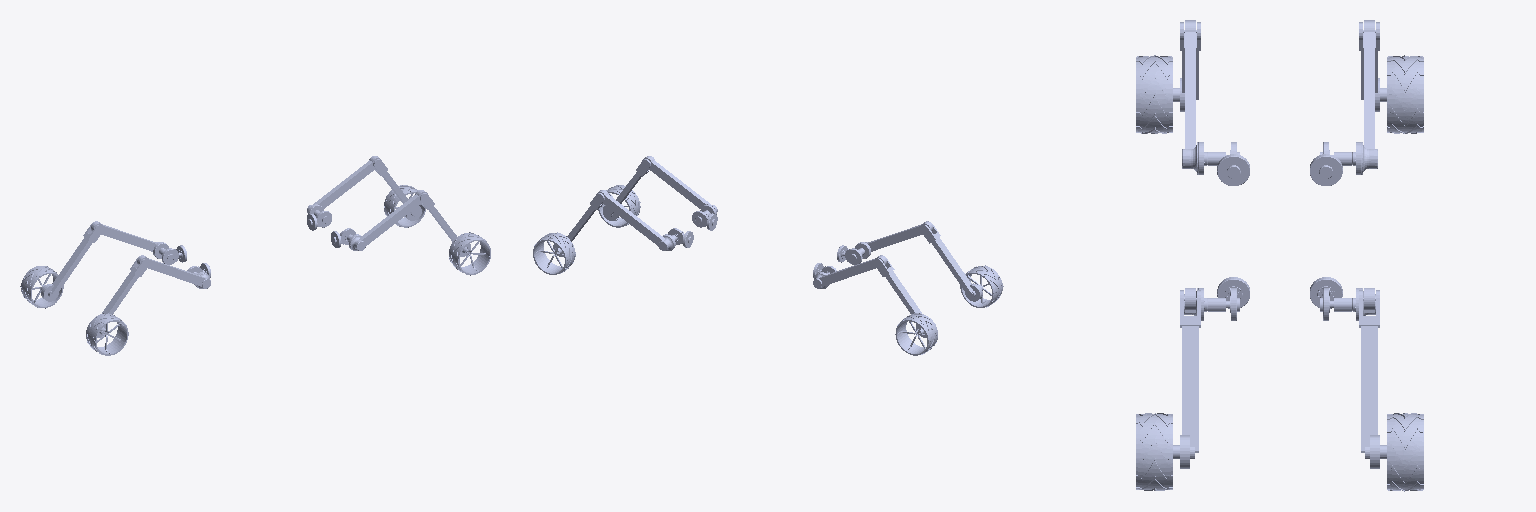
--- Facts derived from the render (not from the file) ---
Views: 3 orthographic renders of the robot side by side, from view 1: azimuth 30°, elevation 25°; view 2: azimuth 150°, elevation 25°; view 3: azimuth 270°, elevation 25°.
Robot: rover — 21 links, 20 joints (20 revolute); root link base_link; default pose: every joint at zero.
Links seen in each view (by area): view 1: back_right_wheel, front_right_wheel, Empty_Link44, l1, Empty_Link3, back_left_wheel, Empty_Link333, Empty_Link33, Empty_Link444, front_left_wheel, Empty_Link4; view 2: front_left_wheel, back_left_wheel, Empty_Link444, Empty_Link3, l1, back_right_wheel, Empty_Link33, Empty_Link333, Empty_Link44, front_right_wheel, l2; view 3: back_right_wheel, front_left_wheel, back_left_wheel, front_right_wheel, l2, Empty_Link4, Empty_Link33, Empty_Link333, Empty_Link111, Empty_Link11, Empty_Link44, Empty_Link444 (+4 smaller).
Boxes of the visible links, bbox=[...] form: back_right_wheel: bbox=[86, 313, 128, 355]; front_right_wheel: bbox=[449, 232, 490, 275]; Empty_Link44: bbox=[41, 221, 103, 301]; l1: bbox=[349, 190, 427, 250]; Empty_Link3: bbox=[307, 156, 381, 213]; back_left_wheel: bbox=[20, 266, 63, 308]; Empty_Link333: bbox=[137, 255, 210, 288]; Empty_Link33: bbox=[91, 221, 168, 258]; Empty_Link444: bbox=[97, 255, 149, 337]; front_left_wheel: bbox=[384, 185, 425, 227]; Empty_Link4: bbox=[369, 156, 421, 220]; front_left_wheel: bbox=[533, 232, 575, 274]; back_left_wheel: bbox=[895, 313, 937, 355]; Empty_Link444: bbox=[920, 221, 982, 301]; Empty_Link3: bbox=[596, 190, 675, 250]; l1: bbox=[642, 156, 717, 214]; back_right_wheel: bbox=[960, 265, 1003, 307]; Empty_Link33: bbox=[813, 255, 886, 288]; Empty_Link333: bbox=[855, 221, 932, 258]; Empty_Link44: bbox=[874, 255, 926, 337]; front_right_wheel: bbox=[598, 185, 640, 227]; l2: bbox=[603, 156, 654, 220]; back_right_wheel: bbox=[1136, 55, 1179, 133]; front_left_wheel: bbox=[1380, 413, 1423, 491]; back_left_wheel: bbox=[1380, 55, 1423, 133]; front_right_wheel: bbox=[1136, 413, 1179, 490]; l2: bbox=[1180, 290, 1200, 468]; Empty_Link4: bbox=[1359, 290, 1379, 468]; Empty_Link33: bbox=[1352, 20, 1377, 174]; Empty_Link333: bbox=[1182, 20, 1207, 174]; Empty_Link111: bbox=[1217, 152, 1249, 185]; Empty_Link11: bbox=[1310, 152, 1342, 185]; Empty_Link44: bbox=[1359, 22, 1379, 111]; Empty_Link444: bbox=[1180, 22, 1200, 111].
Bounding box of the posed robot: 4.8 × 1.56 × 0.996 m (x, y, z).
Meshes: 21 distinct files referenced, 20 mesh visuals loaded (20 binary STL); not drawn: 1 (reference not matched to a file when rendering).

URDF robot description (rover):
<?xml version="1.0" encoding="utf-8"?>
<!-- This URDF was automatically created by SolidWorks to URDF Exporter! Originally created by Stephen Brawner ([email redacted]) 
     Commit Version: 1.6.0-4-g7f85cfe  Build Version: 1.6.7995.38578
     For more information, please see http://wiki.ros.org/sw_urdf_exporter -->
<robot name="rover">
  <link
    name="base_link">
    <inertial>
      <origin
        xyz="0.62089 0.44892 0.51631"
        rpy="0 0 0" />
      <mass
        value="386.24" />
      <inertia
        ixx="27.335"
        ixy="-0.00037164"
        ixz="5.2199E-06"
        iyy="42.415"
        iyz="-3.4132E-06"
        izz="38.071" />
    </inertial>
    <visual>
      <origin
        xyz="0 0 0"
        rpy="0 0 0" />
      <geometry>
        <mesh
          filename="package://euro2moon/meshes/o2_rover/base_link.STL" />
      </geometry>
      <material
        name="">
        <color
          rgba="0.79216 0.81961 0.93333 1" />
      </material>
    </visual>
    <collision>
      <origin
        xyz="0 0 0"
        rpy="0 0 0" />
      <geometry>
        <mesh
          filename="package://euro2moon/meshes/o2_rover/base_link.STL" />
      </geometry>
    </collision>
  </link>
  <link
    name="hp1">
    <inertial>
      <origin
        xyz="-0.034403 -3.6769E-06 -1.1834E-05"
        rpy="0 0 0" />
      <mass
        value="1.1716" />
      <inertia
        ixx="0.0036526"
        ixy="-4.6094E-08"
        ixz="-4.1157E-08"
        iyy="0.0019004"
        iyz="-6.4861E-08"
        izz="0.00193" />
    </inertial>
    <visual>
      <origin
        xyz="0 0 0"
        rpy="0 0 0" />
      <geometry>
        <mesh
          filename="package://euro2moon/meshes/o2_rover/hp1.STL" />
      </geometry>
      <material
        name="">
        <color
          rgba="0.79216 0.81961 0.93333 1" />
      </material>
    </visual>
    <collision>
      <origin
        xyz="0 0 0"
        rpy="0 0 0" />
      <geometry>
        <mesh
          filename="package://euro2moon/meshes/o2_rover/hp1.STL" />
      </geometry>
    </collision>
  </link>
  <joint
    name="hp1_joint"
    type="revolute">
    <origin
      xyz="1.3591 -0.80231 0.14111"
      rpy="1.7515 0 3.1416" />
    <parent
      link="base_link" />
    <child
      link="hp1" />
    <axis
      xyz="1 0 0" />
    <limit
      lower="0"
      upper="0"
      effort="0"
      velocity="0" />
  </joint>
  <link
    name="hp2">
    <inertial>
      <origin
        xyz="-5.5787E-06 -7.1706E-06 -0.025705"
        rpy="0 0 0" />
      <mass
        value="1.5981" />
      <inertia
        ixx="0.0024298"
        ixy="1.3894E-07"
        ixz="-5.7636E-08"
        iyy="0.0024303"
        iyz="-2.2285E-08"
        izz="0.0039377" />
    </inertial>
    <visual>
      <origin
        xyz="0 0 0"
        rpy="0 0 0" />
      <geometry>
        <mesh
          filename="package://euro2moon/meshes/o2_rover/hp2.STL" />
      </geometry>
      <material
        name="">
        <color
          rgba="0.79216 0.81961 0.93333 1" />
      </material>
    </visual>
    <collision>
      <origin
        xyz="0 0 0"
        rpy="0 0 0" />
      <geometry>
        <mesh
          filename="package://euro2moon/meshes/o2_rover/hp2.STL" />
      </geometry>
    </collision>
  </link>
  <joint
    name="hp2_joint"
    type="revolute">
    <origin
      xyz="-0.18 0 0"
      rpy="0 0 -0.19587" />
    <parent
      link="hp1" />
    <child
      link="hp2" />
    <axis
      xyz="0 0 1" />
    <limit
      lower="0"
      upper="0"
      effort="0"
      velocity="0" />
  </joint>
  <link
    name="l1">
    <inertial>
      <origin
        xyz="-0.143460039116074 0.00618443913298916 -0.196061616607061"
        rpy="0 0 0" />
      <mass
        value="1.8460858425331" />
      <inertia
        ixx="0.00367604155682221"
        ixy="0.00302631667779146"
        ixz="-0.000493203508694683"
        iyy="0.0324585449685641"
        iyz="5.12731951424787E-05"
        izz="0.0350030193246323" />
    </inertial>
    <visual>
      <origin
        xyz="0 0 0"
        rpy="0 0 0" />
      <geometry>
        <mesh
          filename="package://euro2moon/meshes/o2_rover/l1.STL" />
      </geometry>
      <material
        name="">
        <color
          rgba="0.792156862745098 0.819607843137255 0.933333333333333 1" />
      </material>
    </visual>
    <collision>
      <origin
        xyz="0 0 0"
        rpy="0 0 0" />
      <geometry>
        <mesh
          filename="package://euro2moon/meshes/o2_rover/l1.STL" />
      </geometry>
    </collision>
  </link>
  <joint
    name="l1_joint"
    type="revolute">
    <origin
      xyz="0 0.01 0"
      rpy="0 0 -0.41549" />
    <parent
      link="hp2" />
    <child
      link="l1" />
    <axis
      xyz="0 0 1" />
    <limit
      lower="0"
      upper="0"
      effort="0"
      velocity="0" />
  </joint>
  <link
    name="l2">
    <inertial>
      <origin
        xyz="-0.224425395675397 -0.362982100091572 -0.224891371536117"
        rpy="0 0 0" />
      <mass
        value="2.59292917008644" />
      <inertia
        ixx="0.0317371370279035"
        ixy="-0.0166192273397199"
        ixz="-0.000201796782306306"
        iyy="0.0151270624169168"
        iyz="-0.000326375225598276"
        izz="0.0408236813242111" />
    </inertial>
    <visual>
      <origin
        xyz="0 0 0"
        rpy="0 0 0" />
      <geometry>
        <mesh
          filename="package://euro2moon/meshes/o2_rover/l2.STL" />
      </geometry>
      <material
        name="">
        <color
          rgba="0.792156862745098 0.819607843137255 0.933333333333333 1" />
      </material>
    </visual>
    <collision>
      <origin
        xyz="0 0 0"
        rpy="0 0 0" />
      <geometry>
        <mesh
          filename="package://euro2moon/meshes/o2_rover/l2.STL" />
      </geometry>
    </collision>
  </link>
  <joint
    name="l2_joint"
    type="revolute">
    <origin
      xyz="-0.83901 0.078528 -0.010556"
      rpy="0 0 0.4081" />
    <parent
      link="l1" />
    <child
      link="l2" />
    <axis
      xyz="0 0 1" />
    <limit
      lower="0"
      upper="0"
      effort="0"
      velocity="0" />
  </joint>
  <link
    name="front_right_wheel">
    <inertial>
      <origin
        xyz="1.0610538772049E-06 7.04615102709027E-07 -0.248600822987221"
        rpy="0 0 0" />
      <mass
        value="4.63076433053832" />
      <inertia
        ixx="0.0898447630459799"
        ixy="3.09101650164943E-07"
        ixz="3.79031080625057E-07"
        iyy="0.0898412222901449"
        iyz="2.11570354497967E-07"
        izz="0.153085392538483" />
    </inertial>
    <visual>
      <origin
        xyz="0 0 0"
        rpy="0 0 0" />
      <geometry>
        <mesh
          filename="package://euro2moon/meshes/o2_rover/w.STL" />
      </geometry>
      <material
        name="">
        <color
          rgba="0.792156862745098 0.819607843137255 0.933333333333333 1" />
      </material>
    </visual>
    <collision>
      <origin
        xyz="0 0 0"
        rpy="0 0 0" />
      <geometry>
        <mesh
          filename="package://euro2moon/meshes/o2_rover/w.STL" />
      </geometry>
    </collision>
  </link>
  <joint
    name="front_right_wheel_joint"
    type="revolute">
    <origin
      xyz="-0.44017 -0.71191 -0.15933"
      rpy="0 0 -0.91531" />
    <parent
      link="l2" />
    <child
      link="front_right_wheel" />
    <axis
      xyz="0 0 1" />
    <limit
      lower="0"
      upper="0"
      effort="0"
      velocity="0" />
  </joint>
  <link
    name="Empty_Link1">
    <inertial>
      <origin
        xyz="-0.0344026182701038 -3.67692664290931E-06 -1.18344696493633E-05"
        rpy="0 0 0" />
      <mass
        value="1.17155430952358" />
      <inertia
        ixx="0.00365259334652187"
        ixy="-4.60935664192442E-08"
        ixz="-4.11568614865394E-08"
        iyy="0.00190043393679301"
        iyz="-6.48612853096143E-08"
        izz="0.00193002277419805" />
    </inertial>
    <visual>
      <origin
        xyz="0 0 0"
        rpy="0 0 0" />
      <geometry>
        <mesh
          filename="package://euro2moon/meshes/o2_rover/Empty_Link1.STL" />
      </geometry>
      <material
        name="">
        <color
          rgba="0.792156862745098 0.819607843137255 0.933333333333333 1" />
      </material>
    </visual>
    <collision>
      <origin
        xyz="0 0 0"
        rpy="0 0 0" />
      <geometry>
        <mesh
          filename="package://euro2moon/meshes/o2_rover/Empty_Link1.STL" />
      </geometry>
    </collision>
  </link>
  <joint
    name="1_joint"
    type="revolute">
    <origin
      xyz="1.3591 -0.30231 0.14111"
      rpy="1.5456 0 3.1416" />
    <parent
      link="base_link" />
    <child
      link="Empty_Link1" />
    <axis
      xyz="1 0 0" />
    <limit
      lower="0"
      upper="0"
      effort="0"
      velocity="0" />
  </joint>
  <link
    name="Empty_Link2">
    <inertial>
      <origin
        xyz="-5.57869856465665E-06 -7.17060544241921E-06 -0.0258851829655141"
        rpy="0 0 0" />
      <mass
        value="1.59805272520045" />
      <inertia
        ixx="0.00242979464688006"
        ixy="1.38944924919397E-07"
        ixz="-5.76359378413726E-08"
        iyy="0.00243030832625978"
        iyz="-2.2284579042515E-08"
        izz="0.00393765439298418" />
    </inertial>
    <visual>
      <origin
        xyz="0 0 0"
        rpy="0 0 0" />
      <geometry>
        <mesh
          filename="package://euro2moon/meshes/o2_rover/Empty_Link2.STL" />
      </geometry>
      <material
        name="">
        <color
          rgba="0.792156862745098 0.819607843137255 0.933333333333333 1" />
      </material>
    </visual>
    <collision>
      <origin
        xyz="0 0 0"
        rpy="0 0 0" />
      <geometry>
        <mesh
          filename="package://euro2moon/meshes/o2_rover/Empty_Link2.STL" />
      </geometry>
    </collision>
  </link>
  <joint
    name="2_joint"
    type="revolute">
    <origin
      xyz="-0.18 0 0"
      rpy="3.1416 0 3.1416" />
    <parent
      link="Empty_Link1" />
    <child
      link="Empty_Link2" />
    <axis
      xyz="0 0 1" />
    <limit
      lower="0"
      upper="0"
      effort="0"
      velocity="0" />
  </joint>
  <link
    name="Empty_Link3">
    <inertial>
      <origin
        xyz="-0.147496410193388 0.0153336391181572 -0.0543084300021963"
        rpy="0 0 0" />
      <mass
        value="1.84608580473951" />
      <inertia
        ixx="0.00367603577978081"
        ixy="0.00302631299474486"
        ixz="-0.000493202766983148"
        iyy="0.0324585477994497"
        iyz="5.12729336314081E-05"
        izz="0.0350030255525664" />
    </inertial>
    <visual>
      <origin
        xyz="0 0 0"
        rpy="0 0 0" />
      <geometry>
        <mesh
          filename="package://euro2moon/meshes/o2_rover/Empty_Link3.STL" />
      </geometry>
      <material
        name="">
        <color
          rgba="0.792156862745098 0.819607843137255 0.933333333333333 1" />
      </material>
    </visual>
    <collision>
      <origin
        xyz="0 0 0"
        rpy="0 0 0" />
      <geometry>
        <mesh
          filename="package://euro2moon/meshes/o2_rover/Empty_Link3.STL" />
      </geometry>
    </collision>
  </link>
  <joint
    name="3_joint"
    type="revolute">
    <origin
      xyz="0 0 -0.14193"
      rpy="0 0 -2.5655" />
    <parent
      link="Empty_Link2" />
    <child
      link="Empty_Link3" />
    <axis
      xyz="0 0 1" />
    <limit
      lower="0"
      upper="0"
      effort="0"
      velocity="0" />
  </joint>
  <link
    name="Empty_Link4">
    <inertial>
      <origin
        xyz="-0.22443 -0.36298 -0.056215"
        rpy="0 0 0" />
      <mass
        value="2.5929" />
      <inertia
        ixx="0.031737"
        ixy="-0.016619"
        ixz="-0.0002018"
        iyy="0.015127"
        iyz="-0.00032638"
        izz="0.040824" />
    </inertial>
    <visual>
      <origin
        xyz="0 0 0"
        rpy="0 0 0" />
      <geometry>
        <mesh
          filename="package://euro2moon/meshes/o2_rover/Empty_Link4.STL" />
      </geometry>
      <material
        name="">
        <color
          rgba="0.79216 0.81961 0.93333 1" />
      </material>
    </visual>
    <collision>
      <origin
        xyz="0 0 0"
        rpy="0 0 0" />
      <geometry>
        <mesh
          filename="package://euro2moon/meshes/o2_rover/Empty_Link4.STL" />
      </geometry>
    </collision>
  </link>
  <joint
    name="4_joint"
    type="revolute">
    <origin
      xyz="-0.84305 0.087677 -0.037479"
      rpy="0 0 -2.5635" />
    <parent
      link="Empty_Link3" />
    <child
      link="Empty_Link4" />
    <axis
      xyz="0 0 1" />
    <limit
      lower="0"
      upper="0"
      effort="0"
      velocity="0" />
  </joint>
  <link
    name="front_left_wheel">
    <inertial>
      <origin
        xyz="1.06079998607456E-06 6.93163842491185E-07 -0.125678755269702"
        rpy="0 0 0" />
      <mass
        value="4.63076426633827" />
      <inertia
        ixx="0.0898450602140982"
        ixy="1.35539702808326E-07"
        ixz="3.44304114681454E-07"
        iyy="0.0898414810787604"
        iyz="2.07617240345322E-07"
        izz="0.153085560677623" />
    </inertial>
    <visual>
      <origin
        xyz="0 0 0"
        rpy="0 0 0" />
      <geometry>
        <mesh
          filename="package://euro2moon/meshes/o2_rover/Empty_Link5.STL" />
      </geometry>
      <material
        name="">
        <color
          rgba="0.792156862745098 0.819607843137255 0.933333333333333 1" />
      </material>
    </visual>
    <collision>
      <origin
        xyz="0 0 0"
        rpy="0 0 0" />
      <geometry>
        <mesh
          filename="package://euro2moon/meshes/o2_rover/Empty_Link5.STL" />
      </geometry>
    </collision>
  </link>
  <joint
    name="front_left_wheel_joint"
    type="revolute">
    <origin
      xyz="-0.44017 -0.71191 -0.11358"
      rpy="0 0 -1.1542" />
    <parent
      link="Empty_Link4" />
    <child
      link="front_left_wheel" />
    <axis
      xyz="0 0 1" />
    <limit
      lower="0"
      upper="0"
      effort="0"
      velocity="0" />
  </joint>
  <link
    name="Empty_Link11">
    <inertial>
      <origin
        xyz="-0.0344026182701038 -3.67692664302033E-06 -1.18344696493633E-05"
        rpy="0 0 0" />
      <mass
        value="1.17155430952358" />
      <inertia
        ixx="0.00365259334652186"
        ixy="-4.60935664195773E-08"
        ixz="-4.11568614847022E-08"
        iyy="0.001900433936793"
        iyz="-6.486128530873E-08"
        izz="0.00193002277419804" />
    </inertial>
    <visual>
      <origin
        xyz="0 0 0"
        rpy="0 0 0" />
      <geometry>
        <mesh
          filename="package://euro2moon/meshes/o2_rover/Empty_Link11.STL" />
      </geometry>
      <material
        name="">
        <color
          rgba="0.792156862745098 0.819607843137255 0.933333333333333 1" />
      </material>
    </visual>
    <collision>
      <origin
        xyz="0 0 0"
        rpy="0 0 0" />
      <geometry>
        <mesh
          filename="package://euro2moon/meshes/o2_rover/Empty_Link11.STL" />
      </geometry>
    </collision>
  </link>
  <joint
    name="11_joint"
    type="revolute">
    <origin
      xyz="-0.14591 -0.30231 0.14111"
      rpy="1.5189 0 0" />
    <parent
      link="base_link" />
    <child
      link="Empty_Link11" />
    <axis
      xyz="1 0 0" />
    <limit
      lower="0"
      upper="0"
      effort="0"
      velocity="0" />
  </joint>
  <link
    name="Empty_Link22">
    <inertial>
      <origin
        xyz="-5.5787E-06 -7.1706E-06 -0.025705"
        rpy="0 0 0" />
      <mass
        value="1.5981" />
      <inertia
        ixx="0.0024298"
        ixy="1.3894E-07"
        ixz="-5.7636E-08"
        iyy="0.0024303"
        iyz="-2.2285E-08"
        izz="0.0039377" />
    </inertial>
    <visual>
      <origin
        xyz="0 0 0"
        rpy="0 0 0" />
      <geometry>
        <mesh
          filename="package://euro2moon/meshes/o2_rover/Empty_Link22.STL" />
      </geometry>
      <material
        name="">
        <color
          rgba="0.79216 0.81961 0.93333 1" />
      </material>
    </visual>
    <collision>
      <origin
        xyz="0 0 0"
        rpy="0 0 0" />
      <geometry>
        <mesh
          filename="package://euro2moon/meshes/o2_rover/Empty_Link22.STL" />
      </geometry>
    </collision>
  </link>
  <joint
    name="22_joint"
    type="revolute">
    <origin
      xyz="-0.18 0 0"
      rpy="0 0 0" />
    <parent
      link="Empty_Link11" />
    <child
      link="Empty_Link22" />
    <axis
      xyz="0 0 1" />
    <limit
      lower="0"
      upper="0"
      effort="0"
      velocity="0" />
  </joint>
  <link
    name="Empty_Link33">
    <inertial>
      <origin
        xyz="-0.147496444392564 0.0153336064423634 -0.0672538569651343"
        rpy="0 0 0" />
      <mass
        value="1.84608583561868" />
      <inertia
        ixx="0.00367605007467056"
        ixy="0.00302632109646684"
        ixz="-0.000493204455015948"
        iyy="0.0324585388206266"
        iyz="5.12737850721582E-05"
        izz="0.0350030082355153" />
    </inertial>
    <visual>
      <origin
        xyz="0 0 0"
        rpy="0 0 0" />
      <geometry>
        <mesh
          filename="package://euro2moon/meshes/o2_rover/Empty_Link33.STL" />
      </geometry>
      <material
        name="">
        <color
          rgba="0.792156862745098 0.819607843137255 0.933333333333333 1" />
      </material>
    </visual>
    <collision>
      <origin
        xyz="0 0 0"
        rpy="0 0 0" />
      <geometry>
        <mesh
          filename="package://euro2moon/meshes/o2_rover/Empty_Link33.STL" />
      </geometry>
    </collision>
  </link>
  <joint
    name="33_joint"
    type="revolute">
    <origin
      xyz="0 0 -0.12881"
      rpy="0 0 -0.010496" />
    <parent
      link="Empty_Link22" />
    <child
      link="Empty_Link33" />
    <axis
      xyz="0 0 1" />
    <limit
      lower="0"
      upper="0"
      effort="0"
      velocity="0" />
  </joint>
  <link
    name="Empty_Link44">
    <inertial>
      <origin
        xyz="-0.224425395675401 -0.36298210009157 -0.109251245806602"
        rpy="0 0 0" />
      <mass
        value="2.59292917008644" />
      <inertia
        ixx="0.0317371370279028"
        ixy="-0.0166192273397199"
        ixz="-0.000201796782306346"
        iyy="0.015127062416917"
        iyz="-0.000326375225598332"
        izz="0.0408236813242106" />
    </inertial>
    <visual>
      <origin
        xyz="0 0 0"
        rpy="0 0 0" />
      <geometry>
        <mesh
          filename="package://euro2moon/meshes/o2_rover/Empty_Link44.STL" />
      </geometry>
      <material
        name="">
        <color
          rgba="0.792156862745098 0.819607843137255 0.933333333333333 1" />
      </material>
    </visual>
    <collision>
      <origin
        xyz="0 0 0"
        rpy="0 0 0" />
      <geometry>
        <mesh
          filename="package://euro2moon/meshes/o2_rover/Empty_Link44.STL" />
      </geometry>
    </collision>
  </link>
  <joint
    name="44_joint"
    type="revolute">
    <origin
      xyz="-0.84305 0.087677 0.0026119"
      rpy="0 0 -0.44109" />
    <parent
      link="Empty_Link33" />
    <child
      link="Empty_Link44" />
    <axis
      xyz="0 0 1" />
    <limit
      lower="0"
      upper="0"
      effort="0"
      velocity="0" />
  </joint>
  <link
    name="back_left_wheel">
    <inertial>
      <origin
        xyz="1.06093034624166E-06 6.91875703257017E-07 -0.152824825168225"
        rpy="0 0 0" />
      <mass
        value="4.6307642610976" />
      <inertia
        ixx="0.0898449412781678"
        ixy="1.35830599512767E-07"
        ixz="2.54056220432498E-07"
        iyy="0.0898413620472038"
        iyz="2.05369639335283E-07"
        izz="0.153085473845331" />
    </inertial>
    <visual>
      <origin
        xyz="0 0 0"
        rpy="0 0 0" />
      <geometry>
        <mesh
          filename="package://euro2moon/meshes/o2_rover/Empty_Link55.STL" />
      </geometry>
      <material
        name="">
        <color
          rgba="0.792156862745098 0.819607843137255 0.933333333333333 1" />
      </material>
    </visual>
    <collision>
      <origin
        xyz="0 0 0"
        rpy="0 0 0" />
      <geometry>
        <mesh
          filename="package://euro2moon/meshes/o2_rover/Empty_Link55.STL" />
      </geometry>
    </collision>
  </link>
  <joint
    name="back_left_wheel_joint"
    type="revolute">
    <origin
      xyz="-0.44017 -0.71191 -0.13947"
      rpy="0 0 0.44889" />
    <parent
      link="Empty_Link44" />
    <child
      link="back_left_wheel" />
    <axis
      xyz="0 0 1" />
    <limit
      lower="0"
      upper="0"
      effort="0"
      velocity="0" />
  </joint>
  <link
    name="Empty_Link111">
    <inertial>
      <origin
        xyz="-0.034403 -3.6769E-06 -1.1834E-05"
        rpy="0 0 0" />
      <mass
        value="1.1716" />
      <inertia
        ixx="0.0036526"
        ixy="-4.6094E-08"
        ixz="-4.1157E-08"
        iyy="0.0019004"
        iyz="-6.4861E-08"
        izz="0.00193" />
    </inertial>
    <visual>
      <origin
        xyz="0 0 0"
        rpy="0 0 0" />
      <geometry>
        <mesh
          filename="package://euro2moon/meshes/o2_rover/Empty_Link111.STL" />
      </geometry>
      <material
        name="">
        <color
          rgba="0.79216 0.81961 0.93333 1" />
      </material>
    </visual>
    <collision>
      <origin
        xyz="0 0 0"
        rpy="0 0 0" />
      <geometry>
        <mesh
          filename="package://euro2moon/meshes/o2_rover/Empty_Link111.STL" />
      </geometry>
    </collision>
  </link>
  <joint
    name="111_joint"
    type="revolute">
    <origin
      xyz="-0.14591 -0.80231 0.14111"
      rpy="1.5708 0 0" />
    <parent
      link="base_link" />
    <child
      link="Empty_Link111" />
    <axis
      xyz="1 0 0" />
    <limit
      lower="0"
      upper="0"
      effort="0"
      velocity="0" />
  </joint>
  <link
    name="Empty_Link222">
    <inertial>
      <origin
        xyz="-5.5787E-06 -7.1706E-06 -0.025705"
        rpy="0 0 0" />
      <mass
        value="1.5981" />
      <inertia
        ixx="0.0024298"
        ixy="1.3894E-07"
        ixz="-5.7636E-08"
        iyy="0.0024303"
        iyz="-2.2285E-08"
        izz="0.0039377" />
    </inertial>
    <visual>
      <origin
        xyz="0 0 0"
        rpy="0 0 0" />
      <geometry>
        <mesh
          filename="package://euro2moon/meshes/o2_rover/Empty_Link222.STL" />
      </geometry>
      <material
        name="">
        <color
          rgba="0.79216 0.81961 0.93333 1" />
      </material>
    </visual>
    <collision>
      <origin
        xyz="0 0 0"
        rpy="0 0 0" />
      <geometry>
        <mesh
          filename="package://euro2moon/meshes/o2_rover/Empty_Link222.STL" />
      </geometry>
    </collision>
  </link>
  <joint
    name="222_joint"
    type="revolute">
    <origin
      xyz="-0.18 0 0"
      rpy="3.1416 0 2.8875" />
    <parent
      link="Empty_Link111" />
    <child
      link="Empty_Link222" />
    <axis
      xyz="0 0 1" />
    <limit
      lower="0"
      upper="0"
      effort="0"
      velocity="0" />
  </joint>
  <link
    name="Empty_Link333">
    <inertial>
      <origin
        xyz="-0.147496398011046 0.0153336552959017 -0.0544016217249862"
        rpy="0 0 0" />
      <mass
        value="1.84608571643626" />
      <inertia
        ixx="0.00367602966629228"
        ixy="0.00302630842690048"
        ixz="-0.000493201916025598"
        iyy="0.0324585493903526"
        iyz="5.12727379030492E-05"
        izz="0.0350030307916617" />
    </inertial>
    <visual>
      <origin
        xyz="0 0 0"
        rpy="0 0 0" />
      <geometry>
        <mesh
          filename="package://euro2moon/meshes/o2_rover/Empty_Link333.STL" />
      </geometry>
      <material
        name="">
        <color
          rgba="0.792156862745098 0.819607843137255 0.933333333333333 1" />
      </material>
    </visual>
    <collision>
      <origin
        xyz="0 0 0"
        rpy="0 0 0" />
      <geometry>
        <mesh
          filename="package://euro2moon/meshes/o2_rover/Empty_Link333.STL" />
      </geometry>
    </collision>
  </link>
  <joint
    name="333_joint"
    type="revolute">
    <origin
      xyz="0 0 -0.14166"
      rpy="0 0 -3.1399" />
    <parent
      link="Empty_Link222" />
    <child
      link="Empty_Link333" />
    <axis
      xyz="0 0 1" />
    <limit
      lower="0"
      upper="0"
      effort="0"
      velocity="0" />
  </joint>
  <link
    name="Empty_Link444">
    <inertial>
      <origin
        xyz="-0.22443 -0.36298 -0.056287"
        rpy="0 0 0" />
      <mass
        value="2.5929" />
      <inertia
        ixx="0.031737"
        ixy="-0.016619"
        ixz="-0.0002018"
        iyy="0.015127"
        iyz="-0.00032638"
        izz="0.040824" />
    </inertial>
    <visual>
      <origin
        xyz="0 0 0"
        rpy="0 0 0" />
      <geometry>
        <mesh
          filename="package://euro2moon/meshes/o2_rover/Empty_Link444.STL" />
      </geometry>
      <material
        name="">
        <color
          rgba="0.79216 0.81961 0.93333 1" />
      </material>
    </visual>
    <collision>
      <origin
        xyz="0 0 0"
        rpy="0 0 0" />
      <geometry>
        <mesh
          filename="package://euro2moon/meshes/o2_rover/Empty_Link444.STL" />
      </geometry>
    </collision>
  </link>
  <joint
    name="444_joint"
    type="revolute">
    <origin
      xyz="-0.84305 0.087677 -0.0375"
      rpy="0 0 -2.2044" />
    <parent
      link="Empty_Link333" />
    <child
      link="Empty_Link444" />
    <axis
      xyz="0 0 1" />
    <limit
      lower="0"
      upper="0"
      effort="0"
      velocity="0" />
  </joint>
  <link
    name="back_right_wheel">
    <inertial>
      <origin
        xyz="1.06138500155506E-06 6.90912475453942E-07 -0.125828588574682"
        rpy="0 0 0" />
      <mass
        value="4.6307642002264" />
      <inertia
        ixx="0.0898450596231217"
        ixy="1.36274471679299E-07"
        ixz="3.43730840352643E-07"
        iyy="0.0898414815955512"
        iyz="2.07966110482355E-07"
        izz="0.153085558717631" />
    </inertial>
    <visual>
      <origin
        xyz="0 0 0"
        rpy="0 0 0" />
      <geometry>
        <mesh
          filename="package://euro2moon/meshes/o2_rover/Empty_Link555.STL" />
      </geometry>
      <material
        name="">
        <color
          rgba="0.792156862745098 0.819607843137255 0.933333333333333 1" />
      </material>
    </visual>
    <collision>
      <origin
        xyz="0 0 0"
        rpy="0 0 0" />
      <geometry>
        <mesh
          filename="package://euro2moon/meshes/o2_rover/Empty_Link555.STL" />
      </geometry>
    </collision>
  </link>
  <joint
    name="back_right_wheel_joint"
    type="revolute">
    <origin
      xyz="-0.44017 -0.71191 -0.1135"
      rpy="0 0 0.2933" />
    <parent
      link="Empty_Link444" />
    <child
      link="back_right_wheel" />
    <axis
      xyz="0 0 1" />
    <limit
      lower="0"
      upper="0"
      effort="0"
      velocity="0" />
  </joint>
  
</robot>
